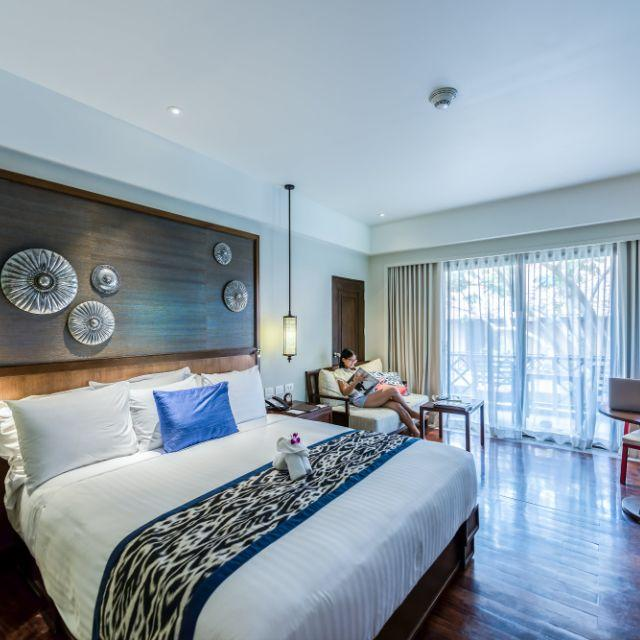bed: (0, 451, 491, 640)
pillow: (93, 370, 237, 452), (10, 380, 135, 473), (152, 382, 236, 452), (212, 360, 263, 425)
table: (410, 392, 495, 457)
window: (519, 242, 625, 444), (442, 259, 524, 435)
